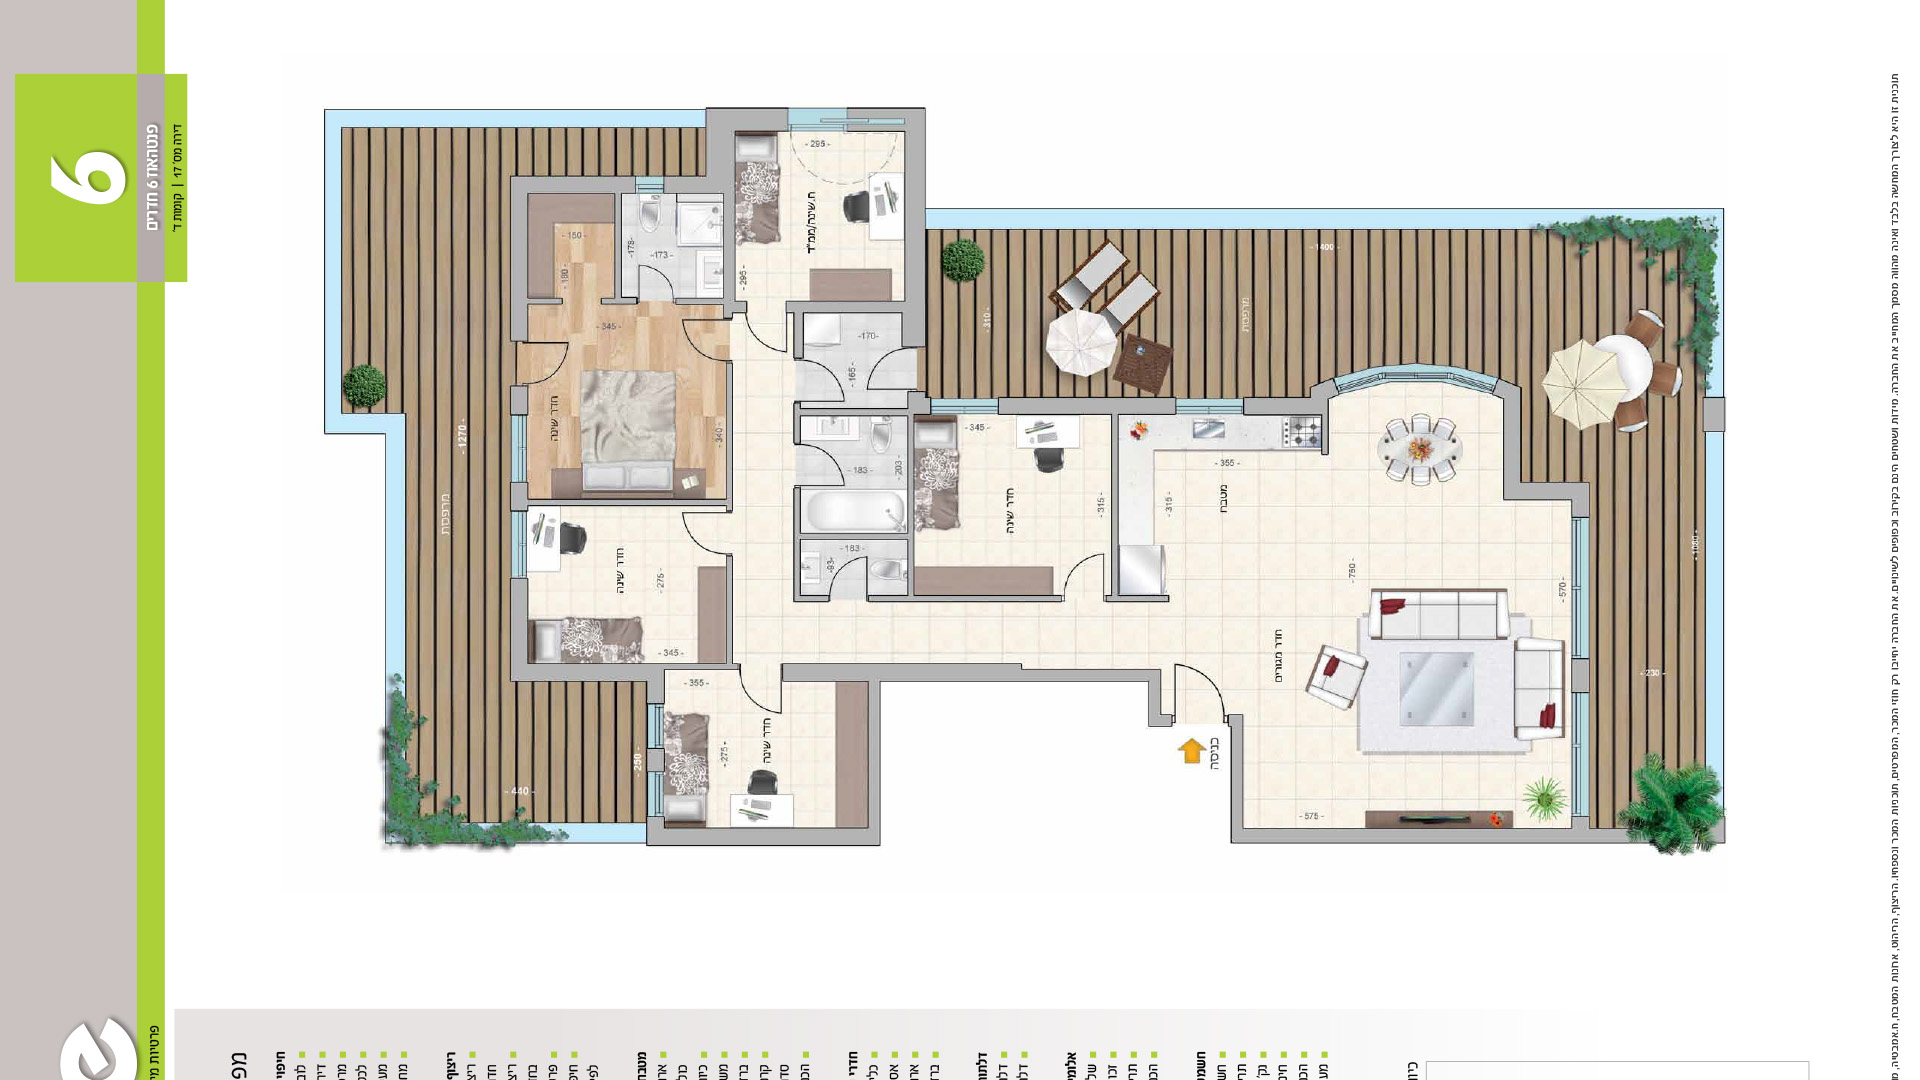door: (1171, 655, 1230, 709), (678, 506, 723, 560), (679, 313, 725, 363), (744, 311, 790, 357), (803, 442, 847, 491), (858, 347, 903, 393), (804, 357, 849, 404), (825, 553, 874, 592), (1058, 550, 1106, 589), (741, 673, 785, 716), (534, 338, 574, 382), (634, 258, 671, 295)
